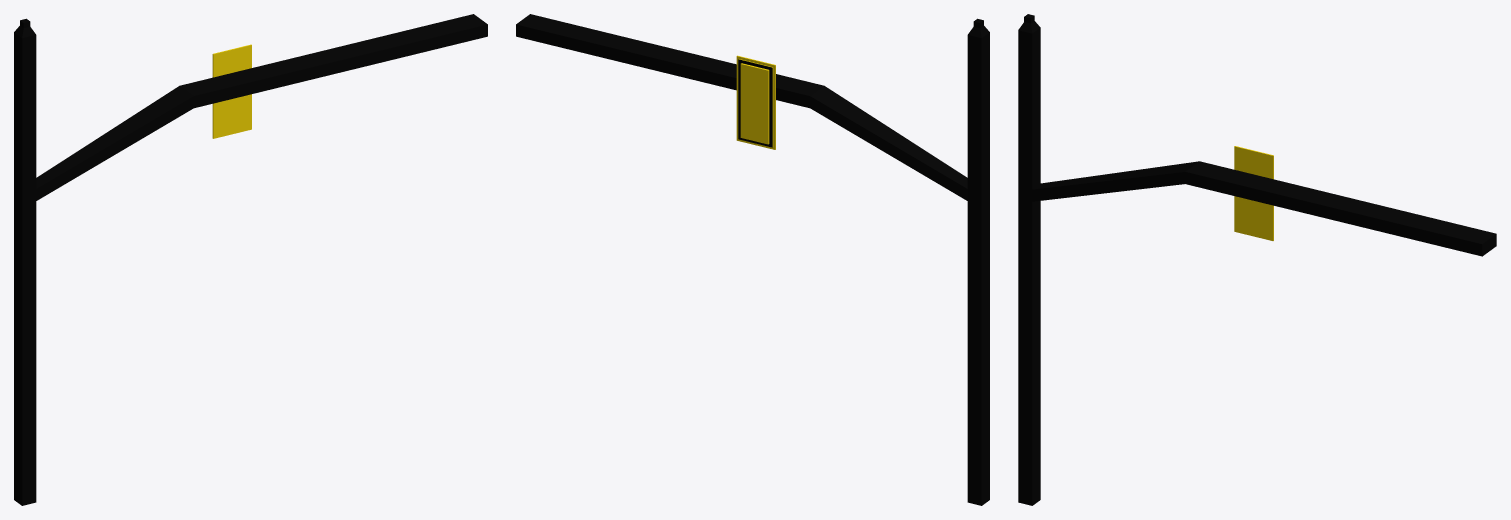
File: stoplight.glb
3 views of the same model, side by side, from view 1: azimuth 30°, elevation 25°; view 2: azimuth 150°, elevation 25°; view 3: azimuth 330°, elevation 25° (orthographic).
Visible parts, largest first — view 1: Cube.004, backplate; view 2: Cube.004, backplate; view 3: Cube.004, backplate.
Boxes of the visible parts, x1=… form: Cube.004: x1=14, y1=14, x2=487, y2=505; backplate: x1=212, y1=44, x2=251, y2=138; Cube.004: x1=516, y1=14, x2=989, y2=505; backplate: x1=736, y1=55, x2=775, y2=149; Cube.004: x1=1018, y1=14, x2=1496, y2=505; backplate: x1=1234, y1=146, x2=1273, y2=240.
Bounding box in the file's own units: 109 × 108 × 6.81.
